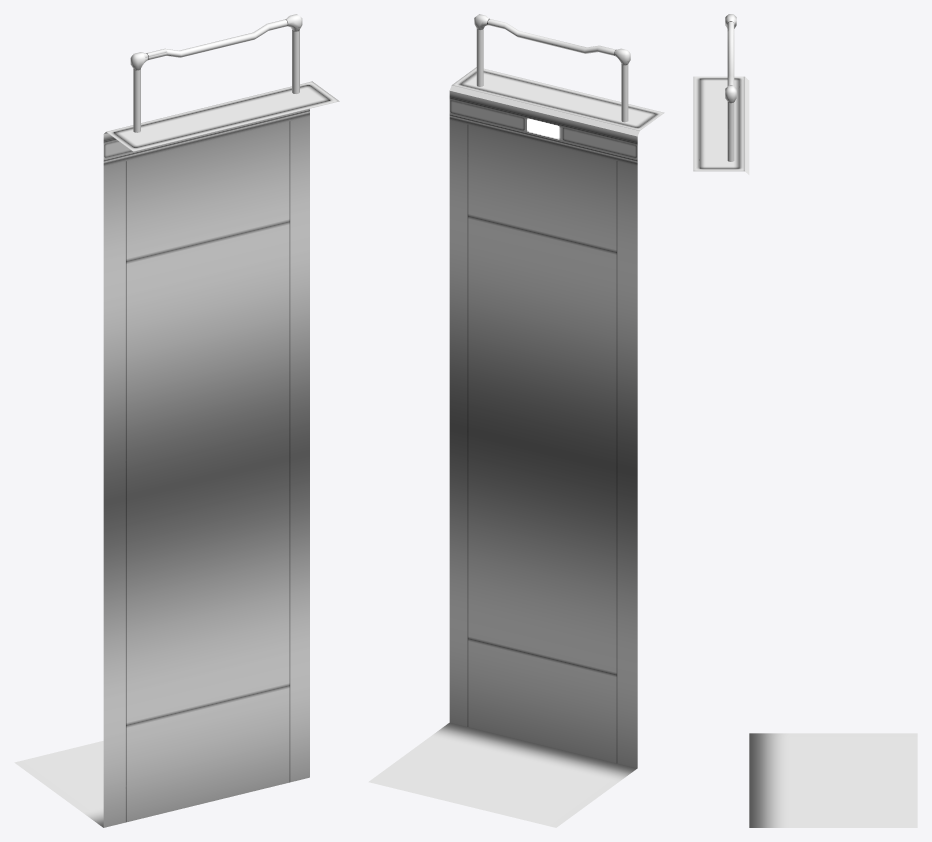
Rendered from Sect_Floor_18.FBX.
The picture shows the model from 3 angles, left to right: view 1: azimuth 30°, elevation 25°; view 2: azimuth 150°, elevation 25°; view 3: azimuth 270°, elevation 25°; orthographic projection. The views are drawn at different scales.
Parts seen in each view (by area): view 1: Sect_Floor_BaseB_; view 2: Sect_Floor_BaseB_; view 3: Sect_Floor_BaseB_.
Part boxes in pixels (left/top/right/bottom): Sect_Floor_BaseB_: left=14, top=14, right=339, bottom=827; Sect_Floor_BaseB_: left=368, top=14, right=664, bottom=827; Sect_Floor_BaseB_: left=693, top=14, right=917, bottom=827.
Bounding box in the file's own units: 4 × 14.35 × 4.
